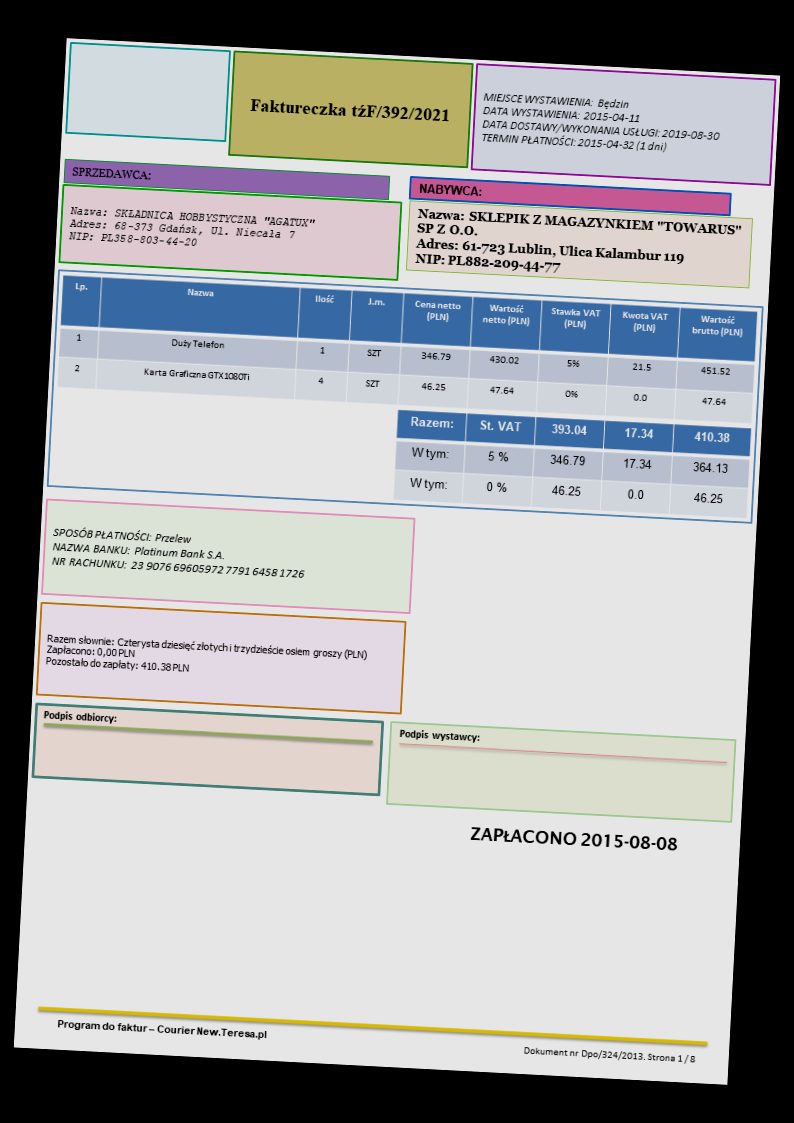Table: (56, 273, 758, 425), (392, 408, 752, 519)
TextBox: (412, 206, 744, 283), (44, 631, 369, 684), (479, 91, 723, 157), (49, 524, 308, 581), (67, 202, 316, 255), (248, 95, 451, 124), (469, 824, 678, 852), (54, 1016, 269, 1043), (521, 1043, 698, 1067), (397, 726, 481, 746), (69, 164, 154, 183), (41, 707, 119, 726), (417, 180, 484, 199)
